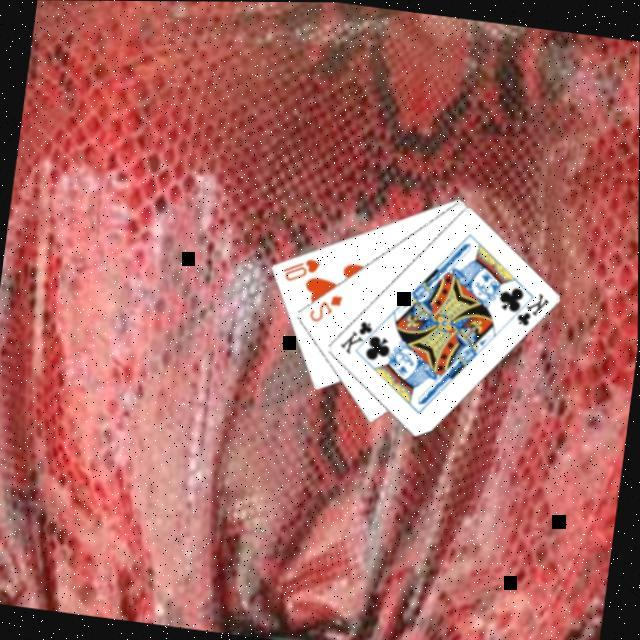10H: (276, 254, 322, 288)
2D: (304, 289, 344, 329)
KC: (502, 287, 552, 332), (334, 316, 382, 360)
